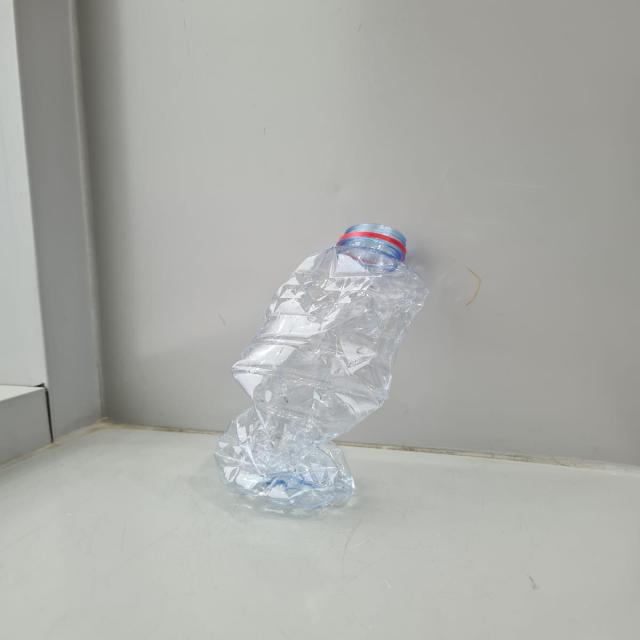bottle: (215, 225, 412, 510)
